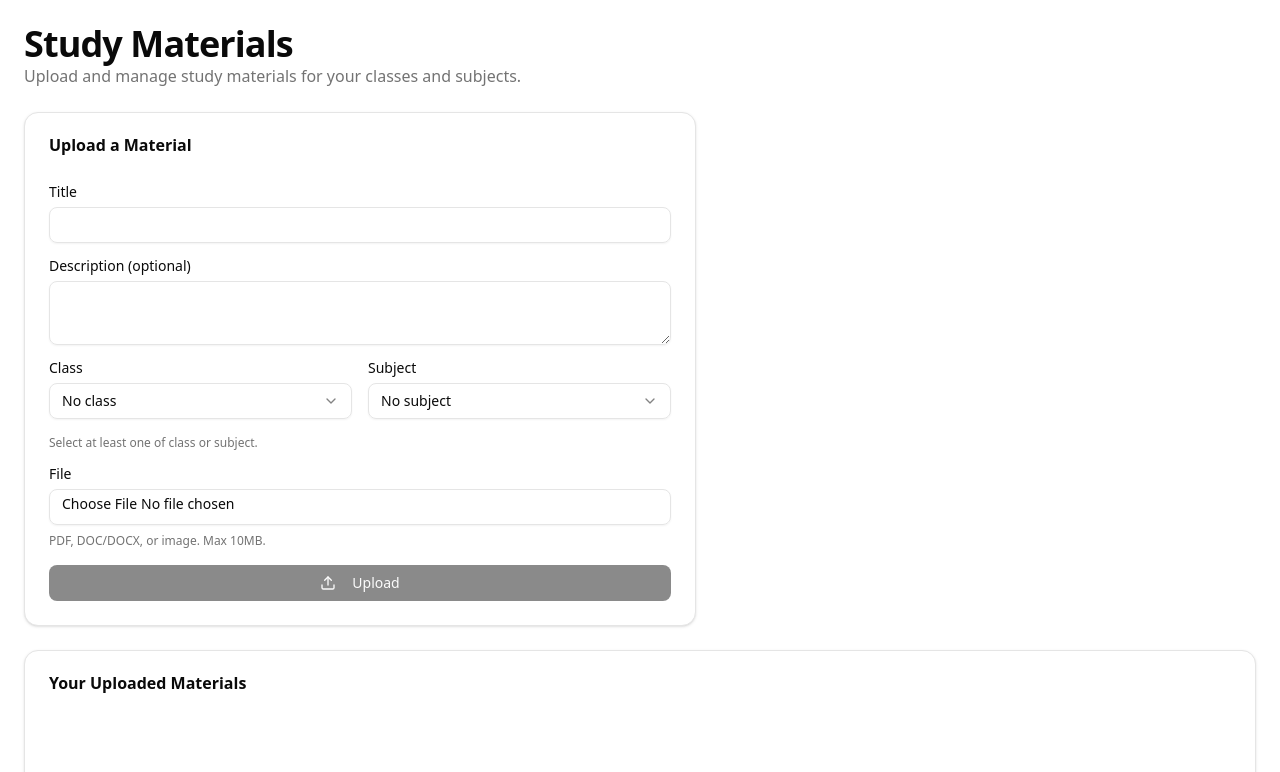
Test case: TeacherMaterialsPage — both, no overlap › shows the owned class and the subject-assigned class
Click the dropdown labelled "class" at coordinates (89, 400), box [49, 383, 352, 419]
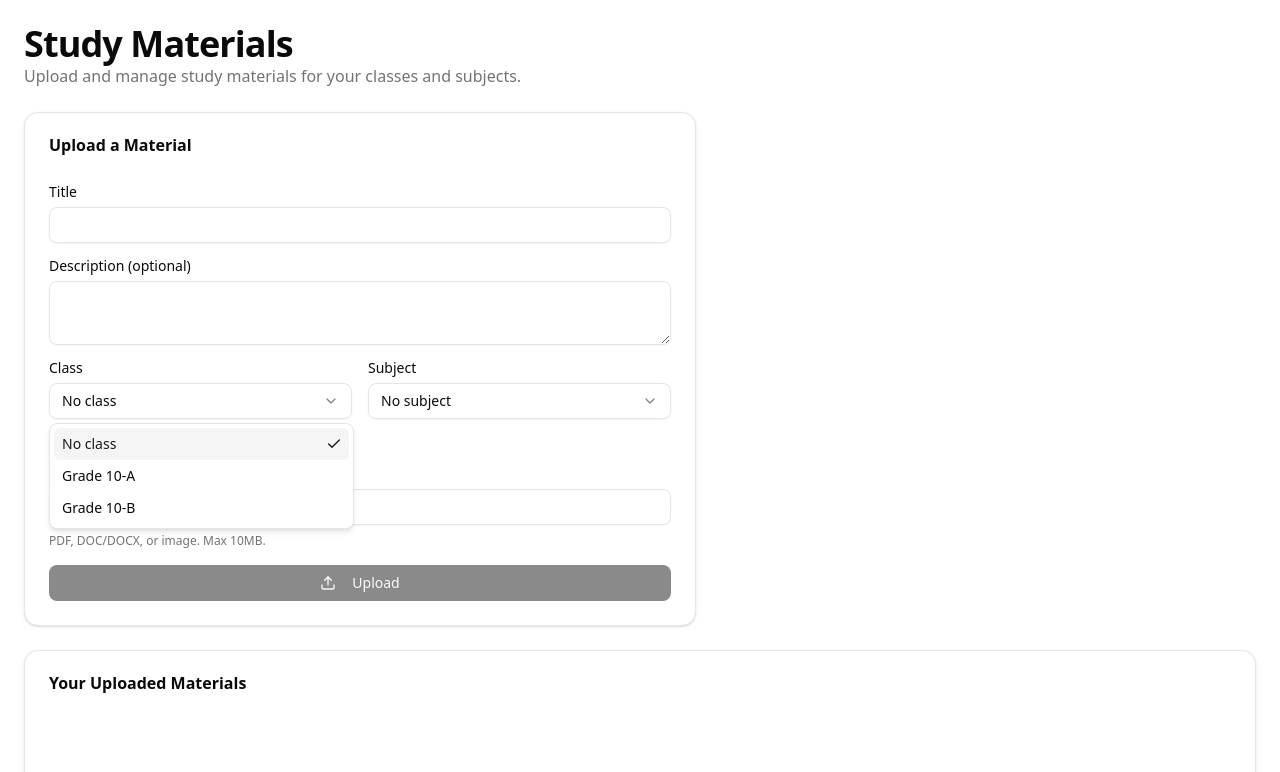
Now the option "Grade 10-A" is shown, box [62, 466, 135, 485]
Now the option "Grade 10-B" is shown, box [62, 498, 135, 517]
